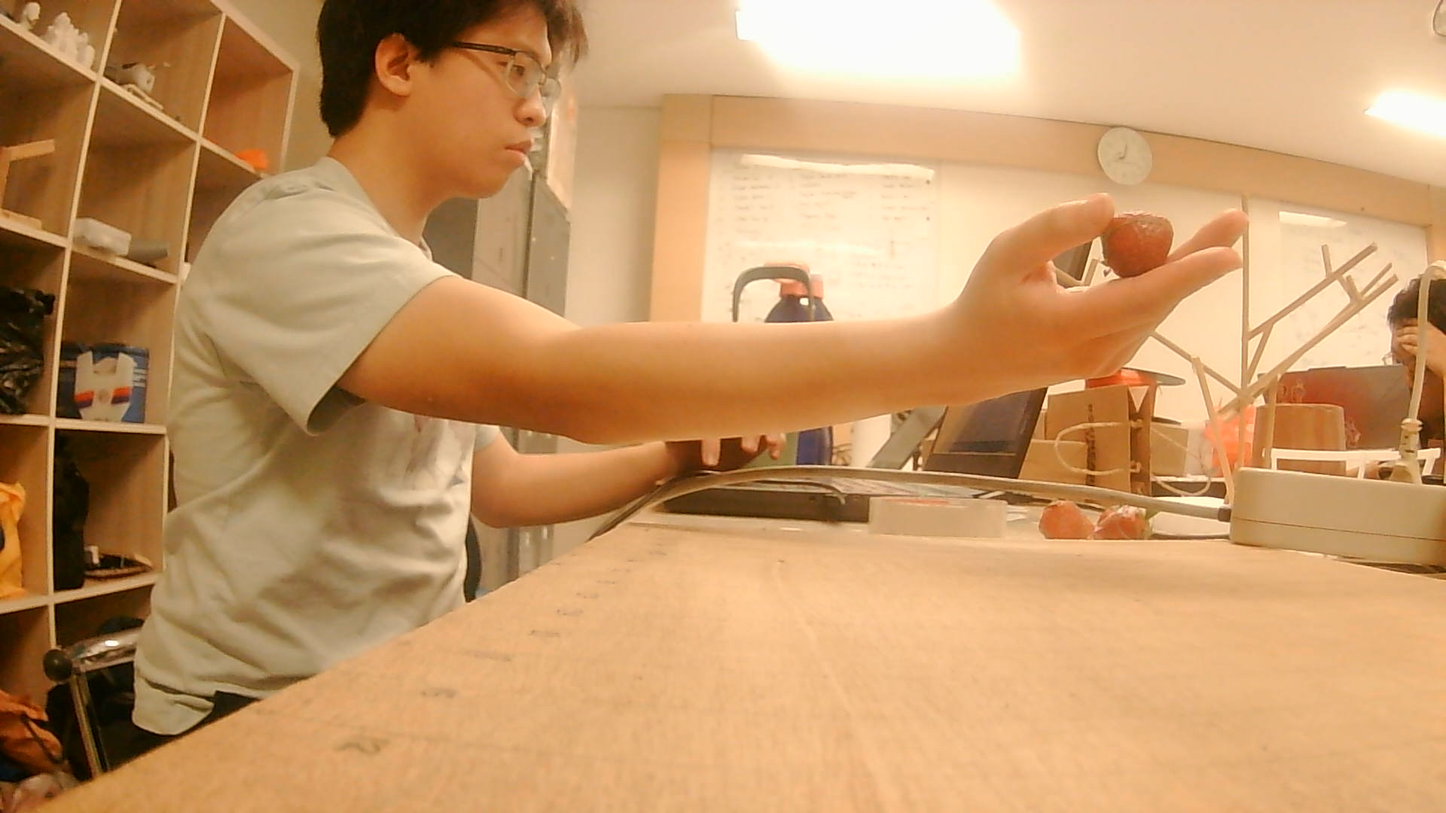strawberry: (1103, 208, 1185, 275), (1035, 487, 1098, 541), (1089, 504, 1152, 539)
